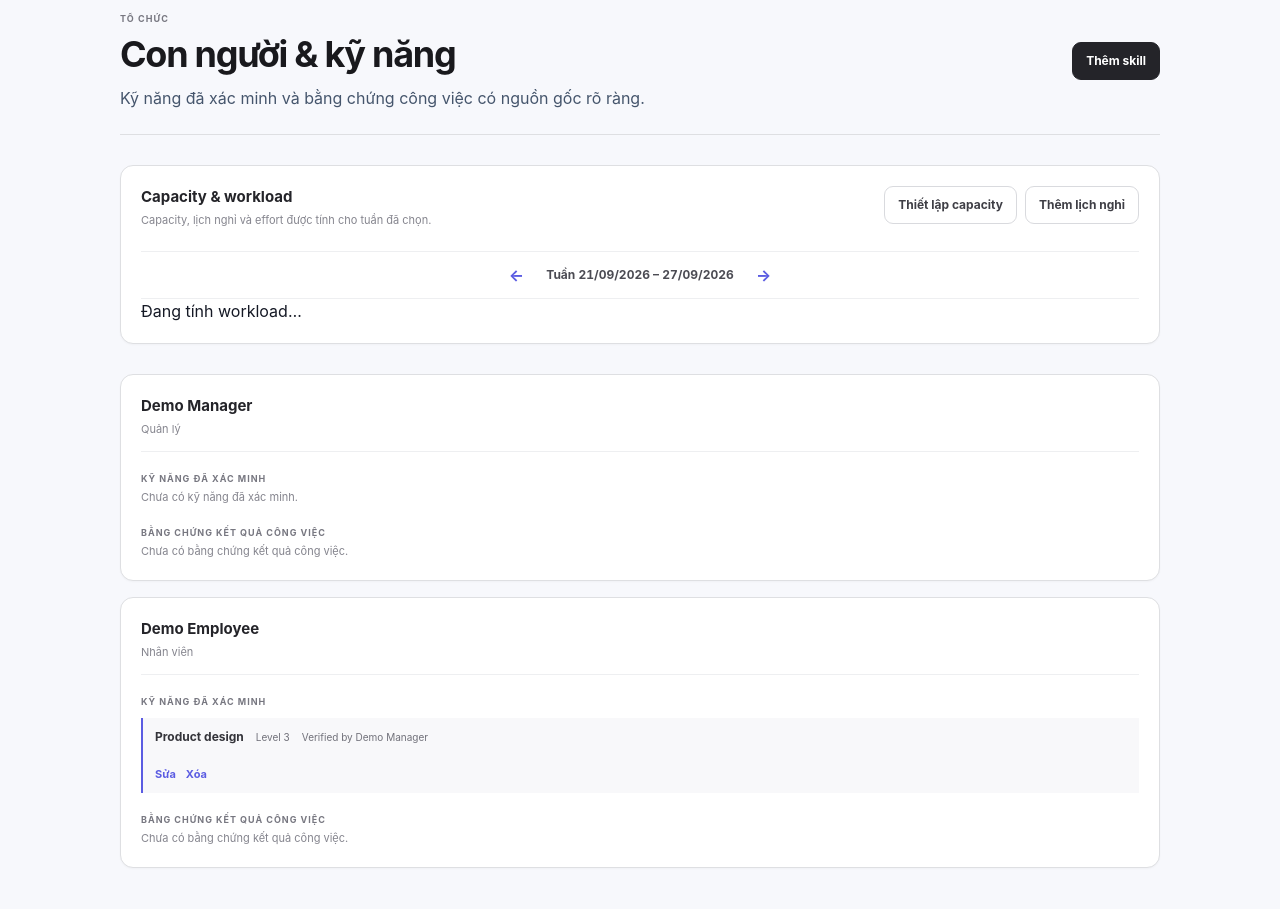
PeopleCapacityPanel › reuses the delete idempotency key after a lost response
Expected: the text "Level 3" is shown, [256, 730, 290, 745]
Click the button with aria-label "Xóa Product design của Demo Employee".
click(196, 775)  # box [186, 766, 207, 783]
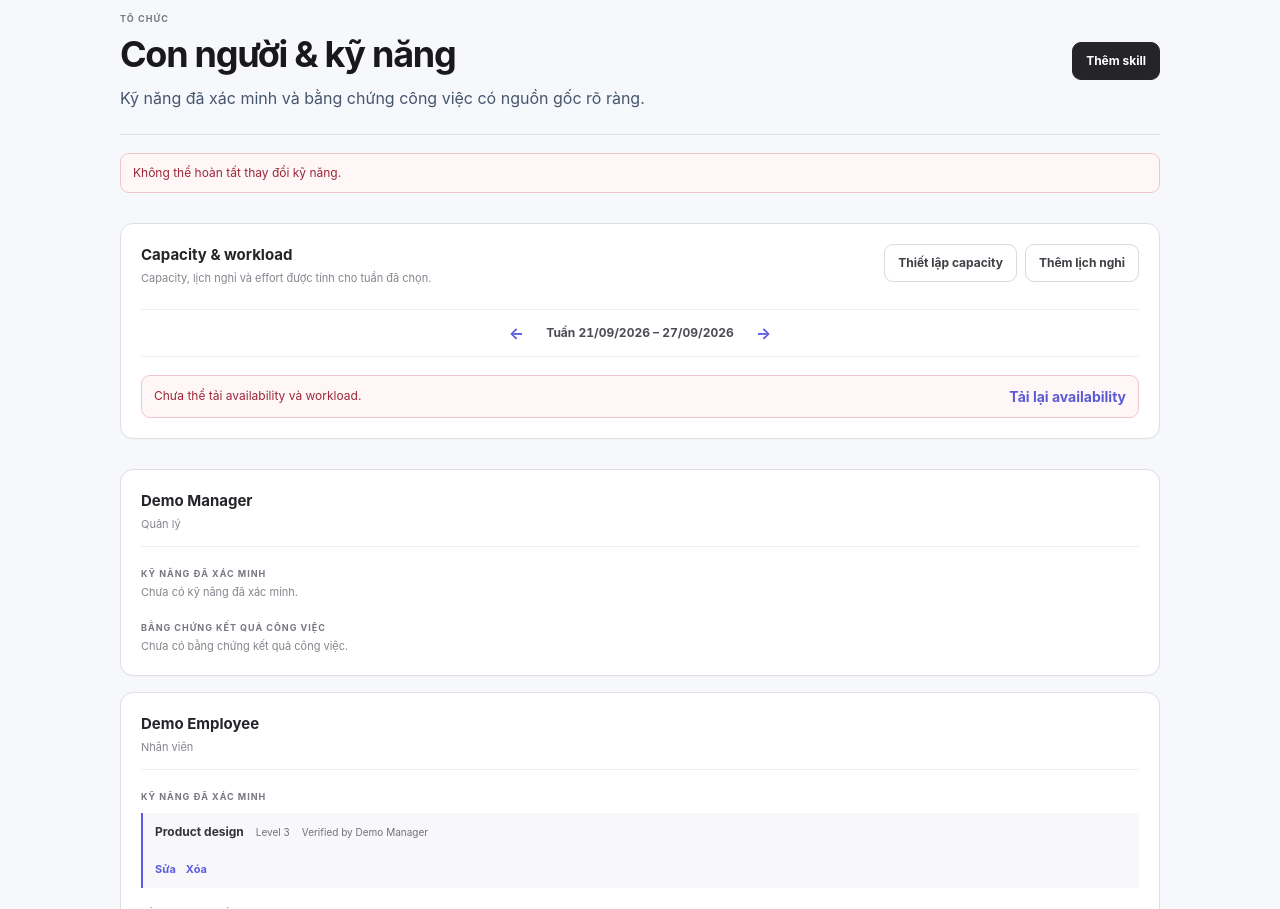
Expected: the text "Không thể hoàn tất thay đổi kỹ năng." is shown, [133, 164, 341, 182]
Click the button with aria-label "Xóa Product design của Demo Employee".
click(196, 870)  # box [186, 861, 207, 878]
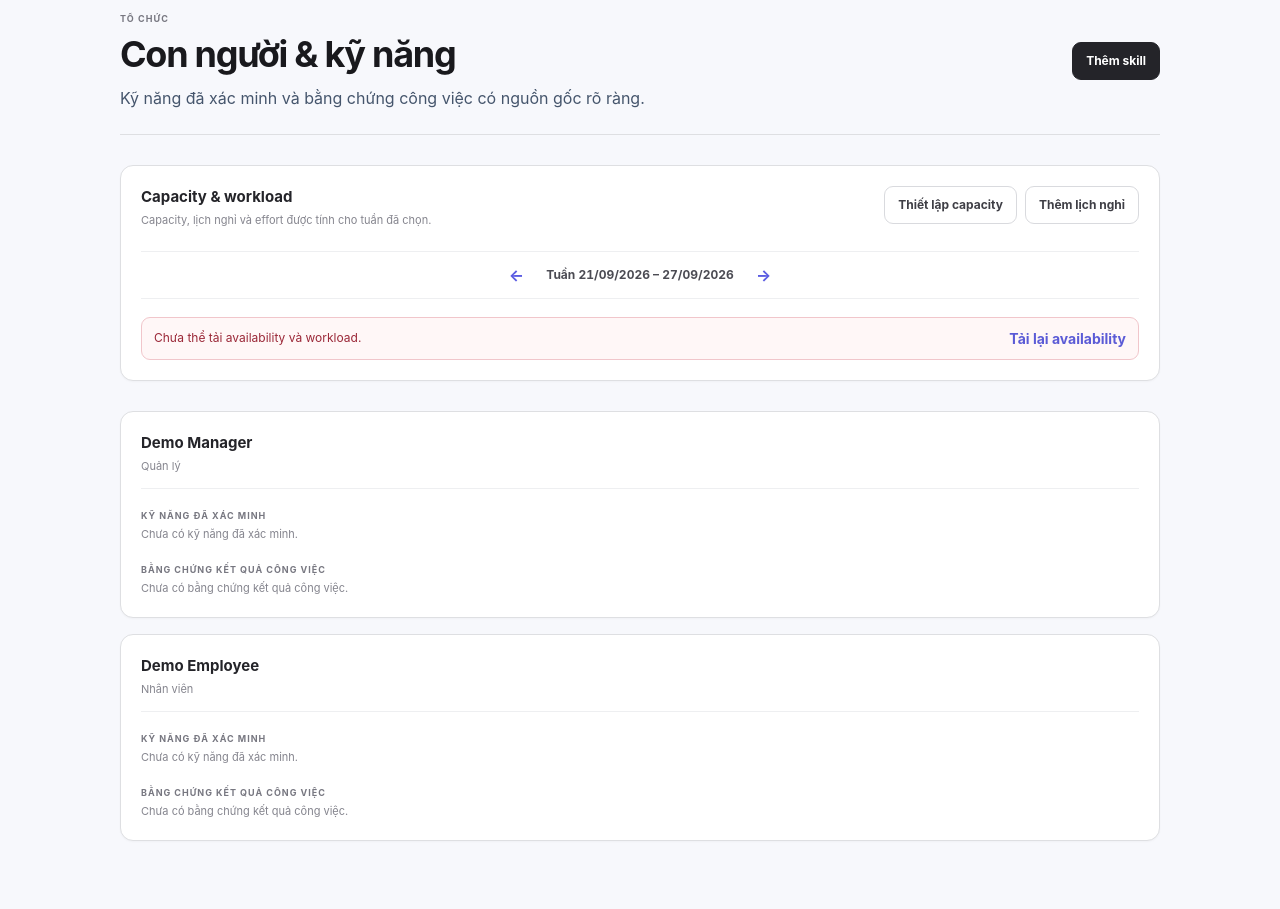
Expected: the text "Level 3" is gone
